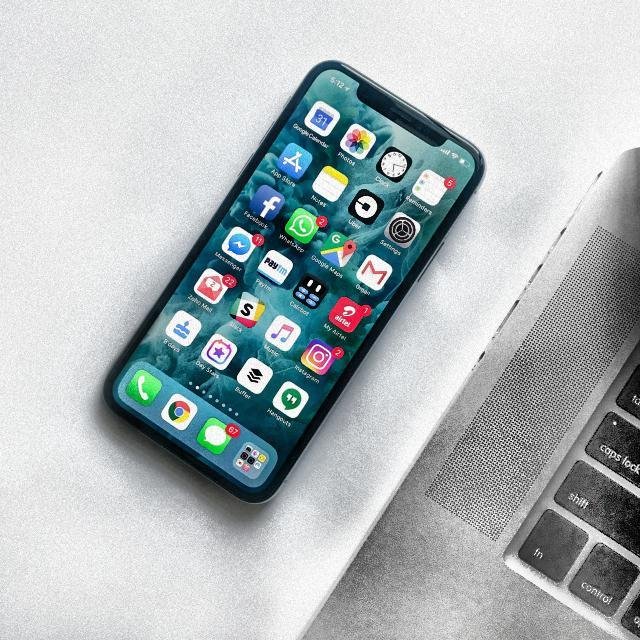Phone: (103, 58, 489, 508)
